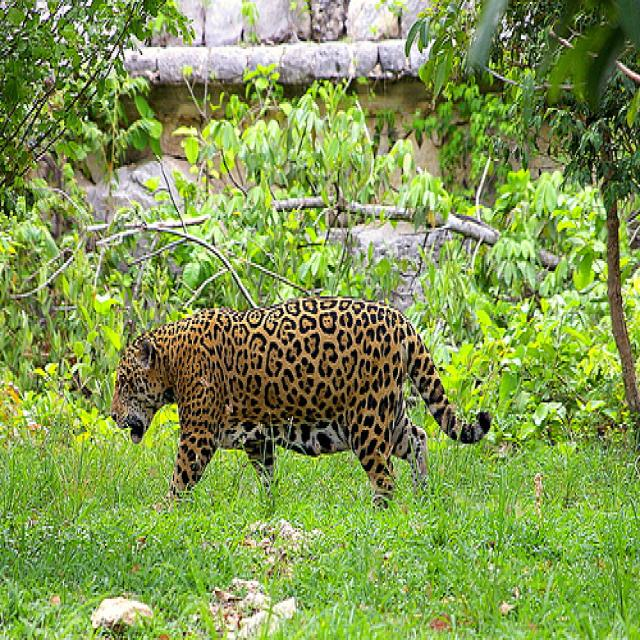Leopard: (106, 289, 497, 518)
